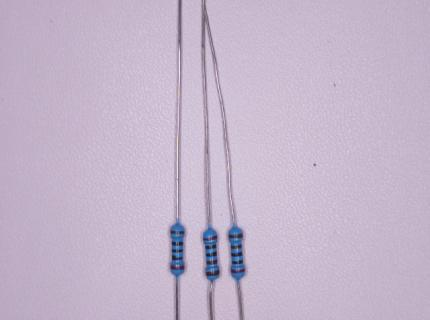Black band: (231, 252, 243, 257), (172, 255, 183, 260), (205, 244, 216, 249), (206, 251, 217, 256), (172, 241, 183, 245), (232, 260, 243, 264), (172, 249, 183, 252)
Brown band: (206, 270, 219, 276), (229, 233, 243, 238), (170, 230, 184, 234), (207, 260, 218, 265), (231, 244, 242, 249)
Red band: (203, 235, 217, 241), (170, 265, 184, 270), (231, 268, 245, 273)
